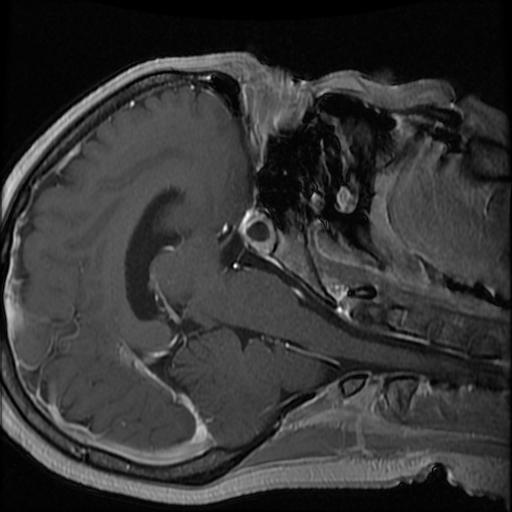pituitary tumour: (238, 208, 275, 256)
